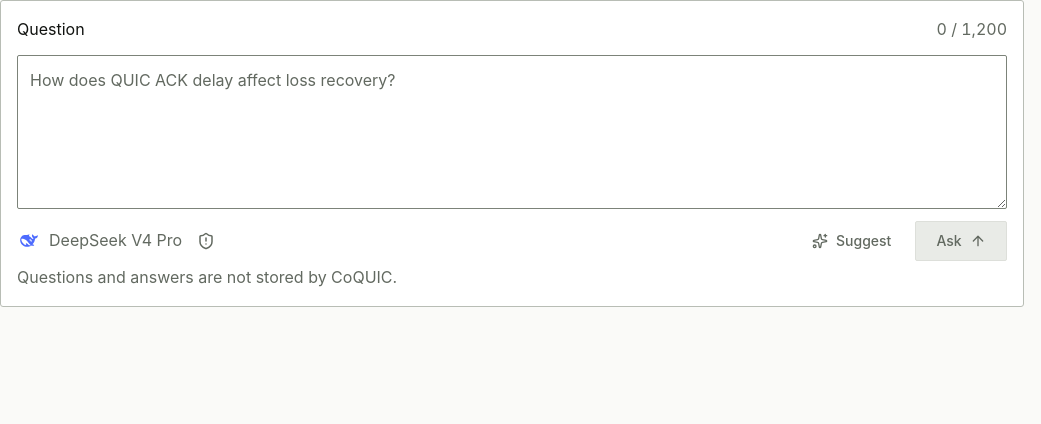
QA stream and form contract › shows one recovery state for rate-limited instead of duplicate model answers
Step 1. Type "How does QUIC recover loss?" into the text box labelled "Question" → (512, 132), box [17,55,1007,209]
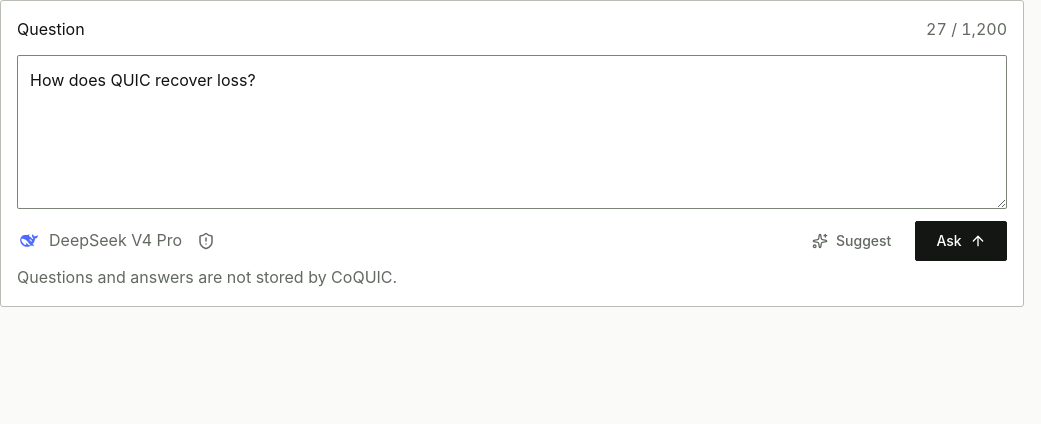
Step 2. Submit the form "Question"
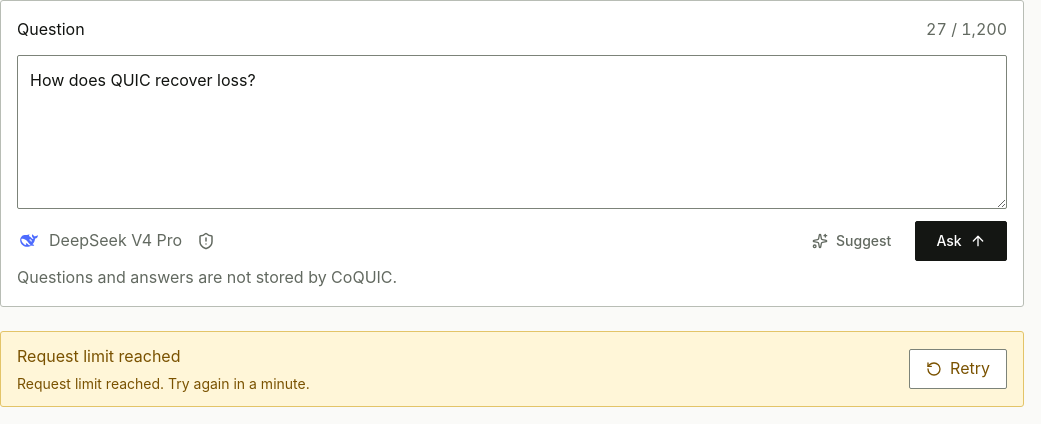
Check: the message "Request limit reached Request limit reached. Try again in a minute. Retry" is shown, box [0,331,1024,407]
Check: the button "Retry" is shown, box [909,349,1007,389]
